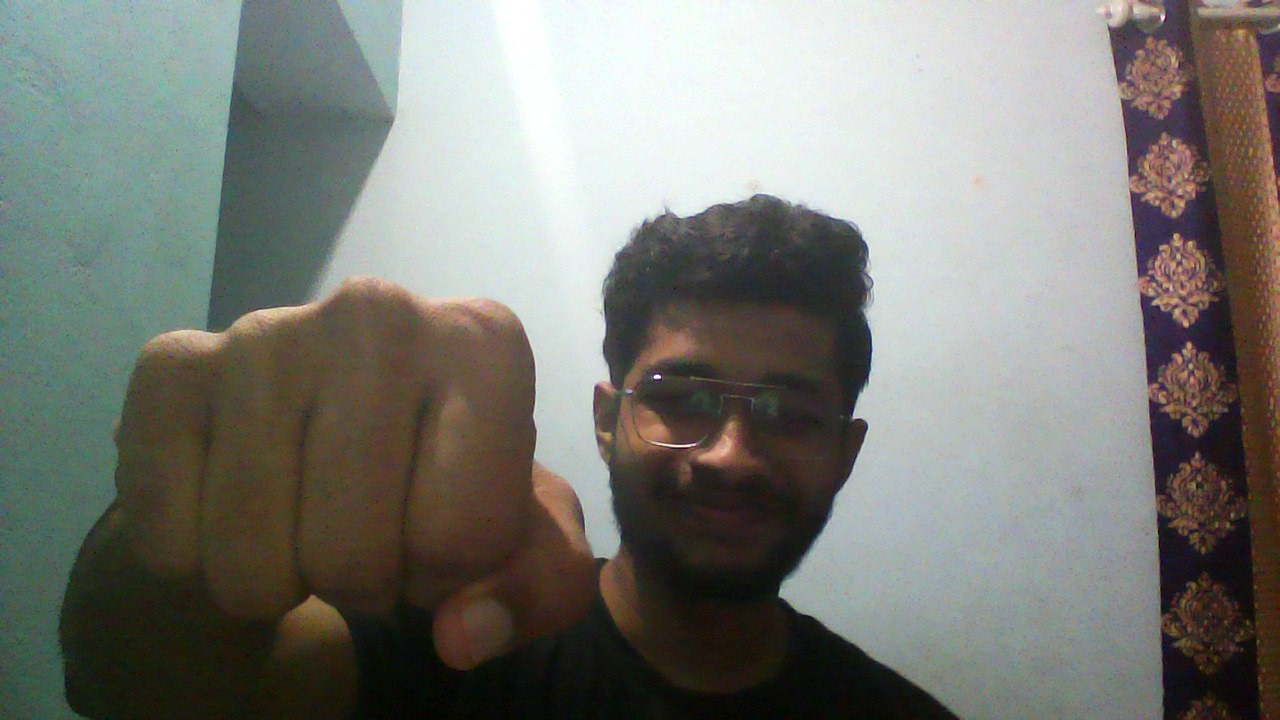Yes: (55, 269, 599, 687)
